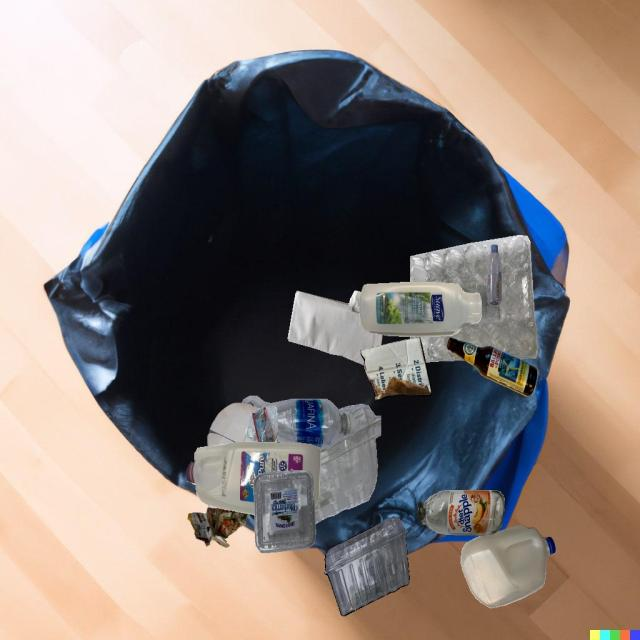cardboard: (361, 337, 432, 400)
glass: (447, 337, 538, 397), (417, 490, 505, 536)
paper: (288, 290, 383, 365), (188, 505, 248, 548), (207, 402, 260, 446)
plastic: (410, 235, 538, 362), (186, 442, 321, 515), (254, 429, 356, 516), (324, 517, 410, 616), (315, 404, 381, 524), (461, 525, 556, 608), (359, 282, 482, 337), (242, 396, 357, 449), (253, 470, 316, 553), (246, 406, 278, 442), (487, 244, 502, 305)
